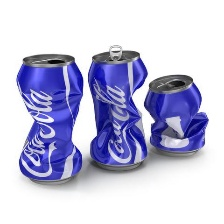can: (14, 49, 84, 186), (86, 44, 149, 172), (144, 66, 213, 161)
